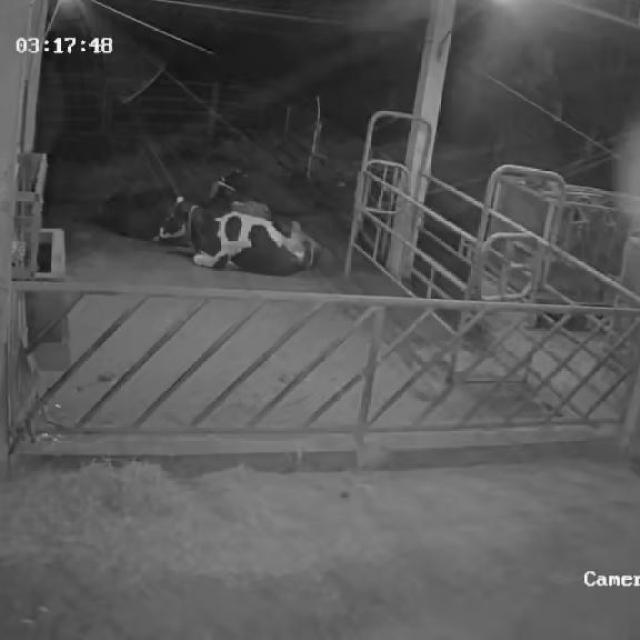lying down: (139, 186, 323, 281), (96, 174, 216, 272), (212, 173, 292, 228)
